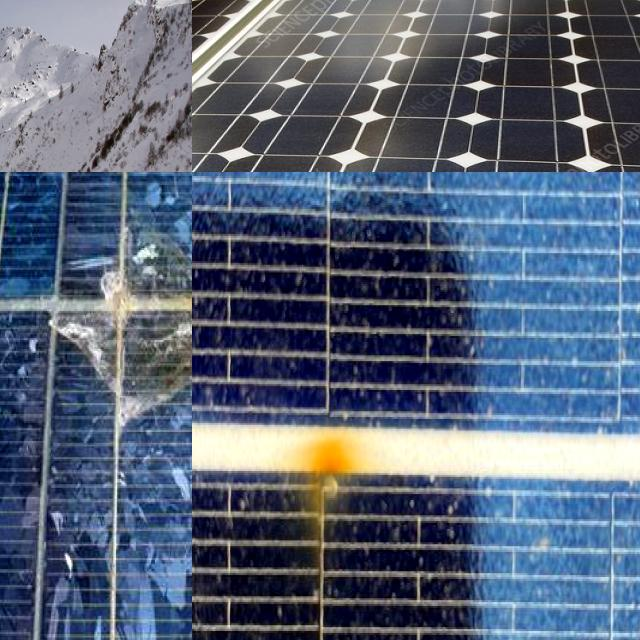crack: (192, 0, 640, 172)
shadow: (43, 214, 192, 432), (270, 423, 375, 590), (228, 172, 278, 199)
